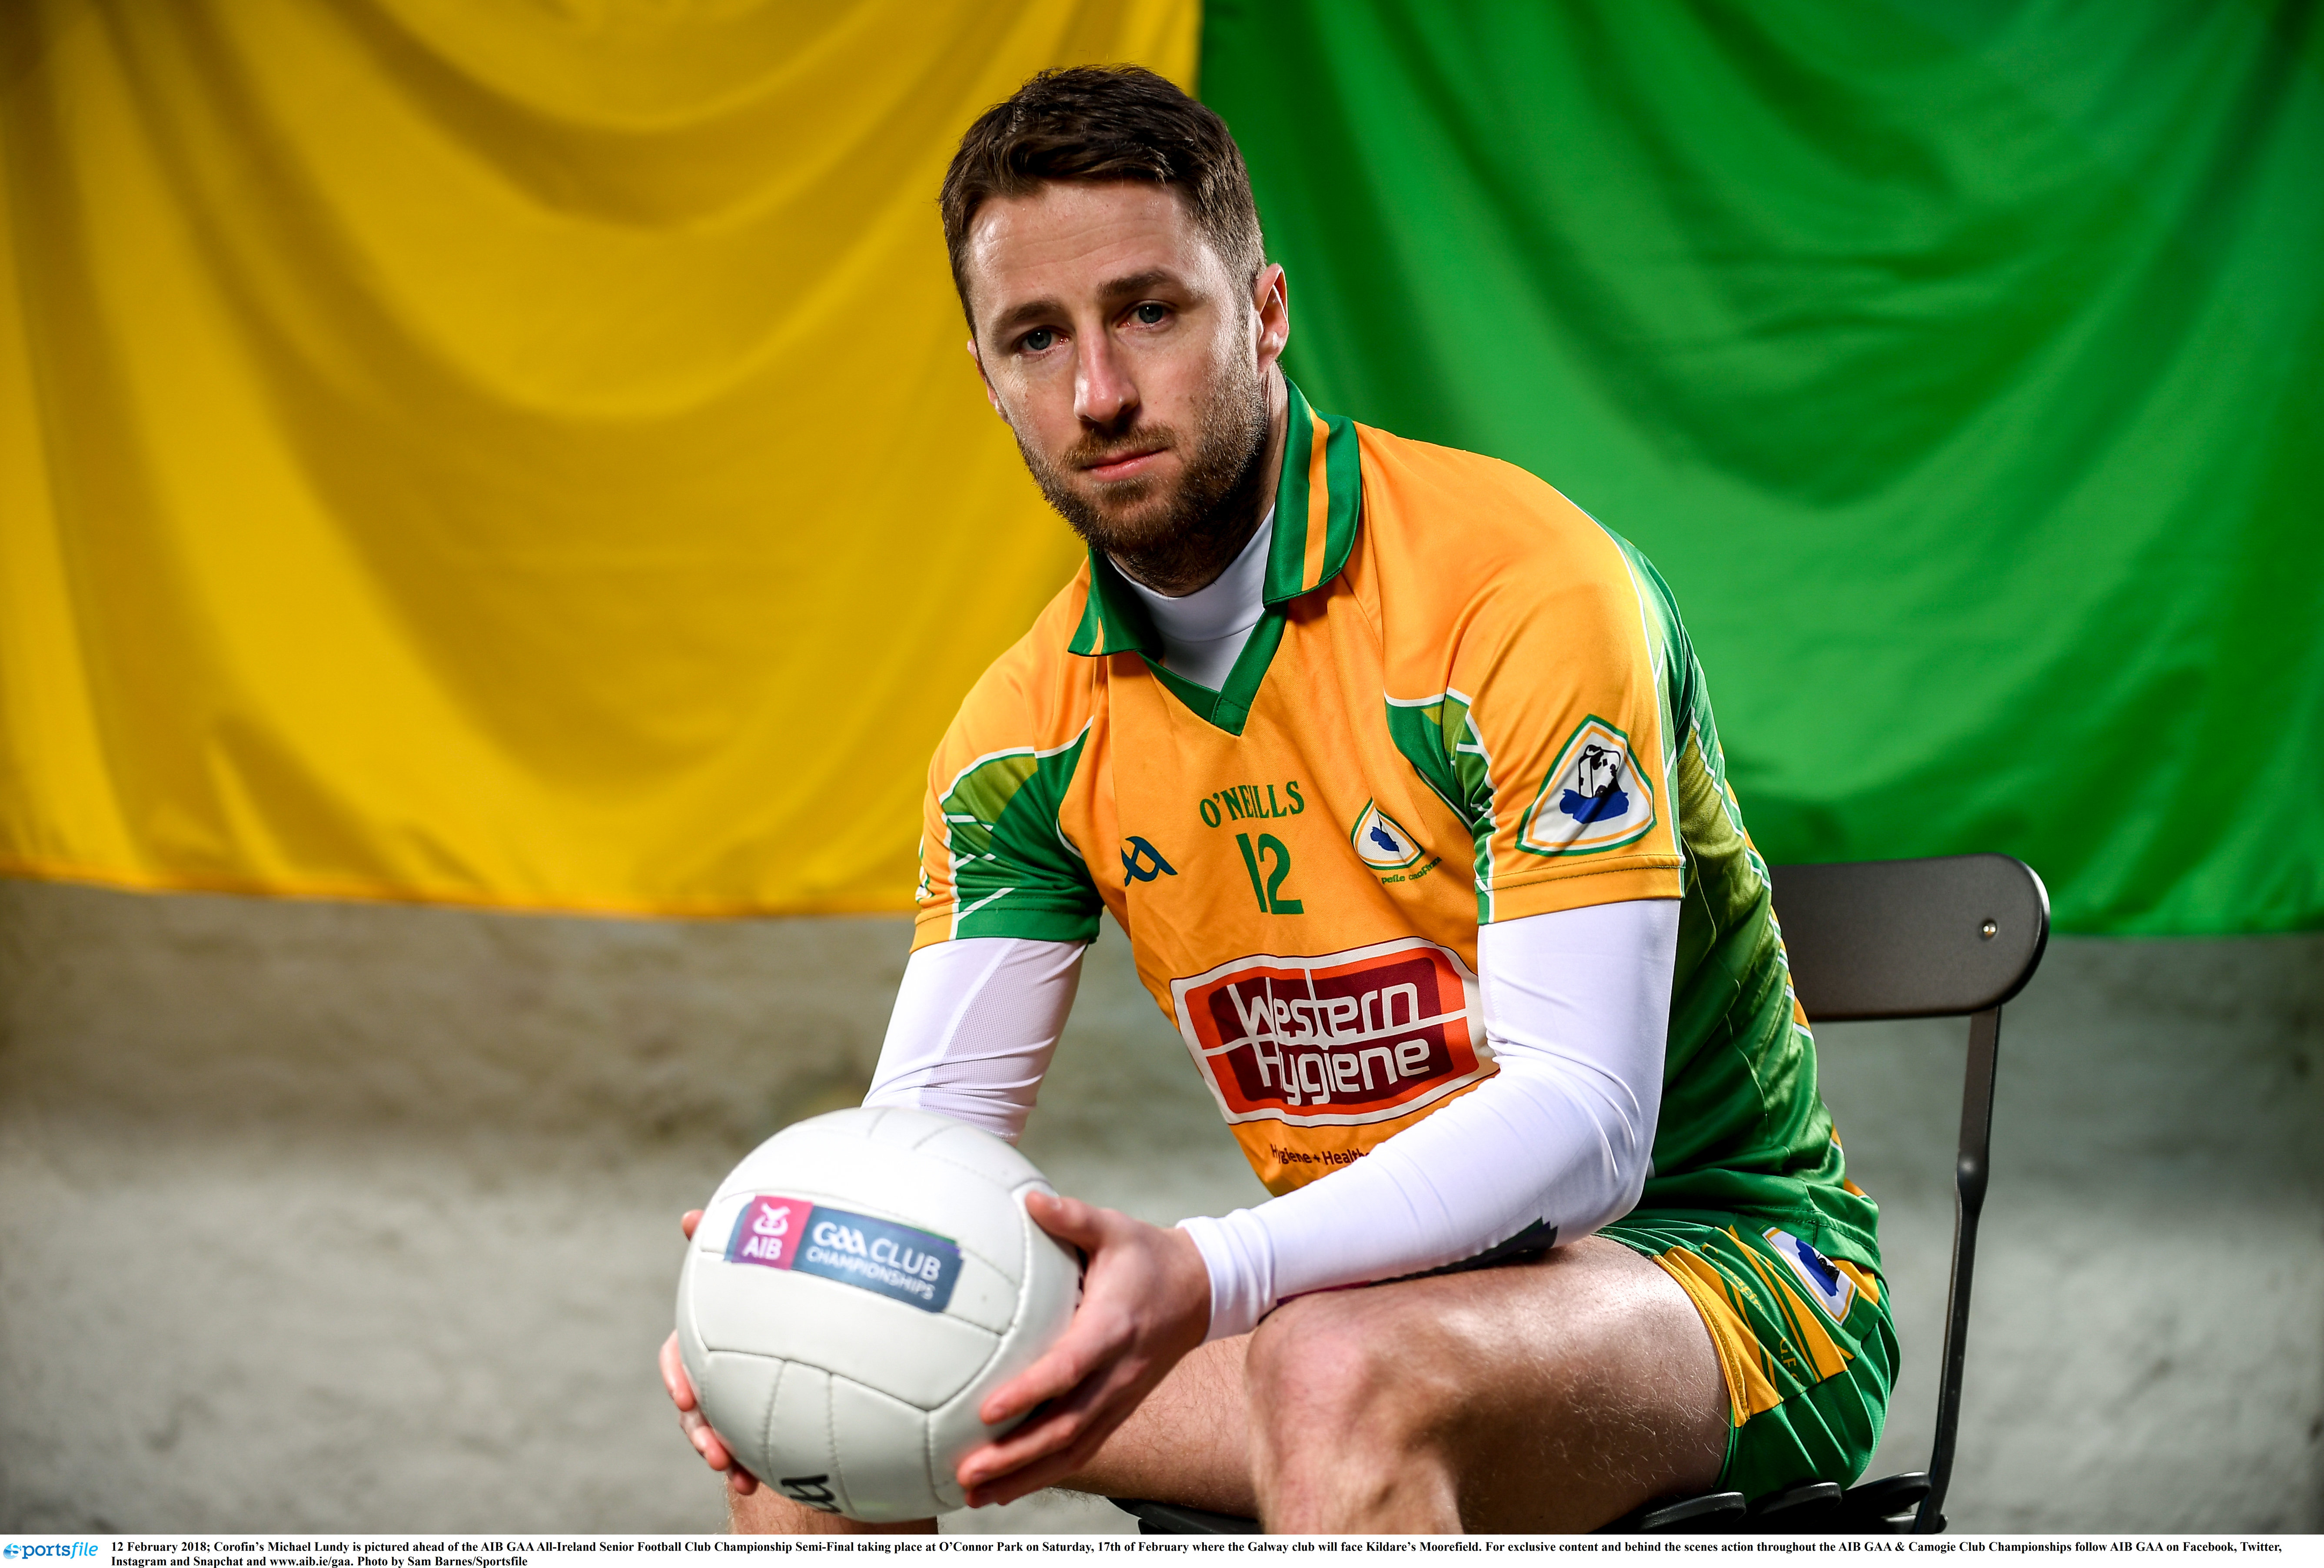ball: (669, 1108, 1090, 1516)
player: (889, 52, 1895, 1522)
